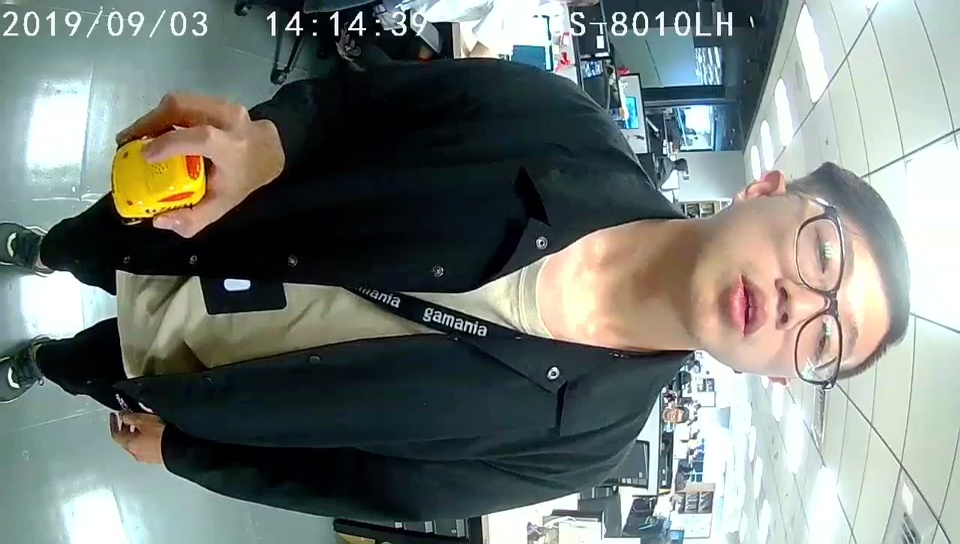car: (111, 135, 205, 217)
